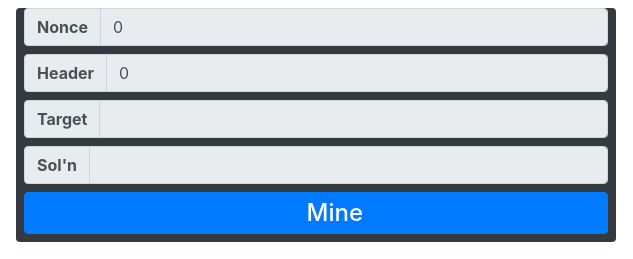
Test case: in preview mode › mining process › button behavior during mining (disabled the button while mining) › keeps mining button disabled after mining due to valid solution
Click the button with aria-label "Block Mine" at (316, 213), box [24,192,608,234]
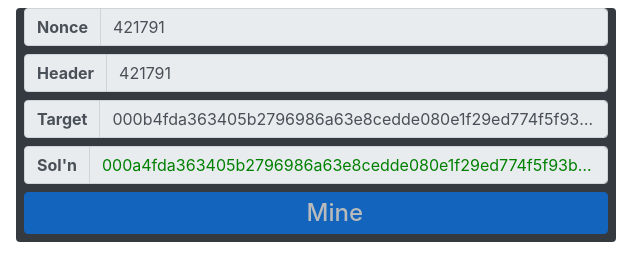
Check: the button with aria-label "Block Mine" is disabled, box [24,192,608,234]
